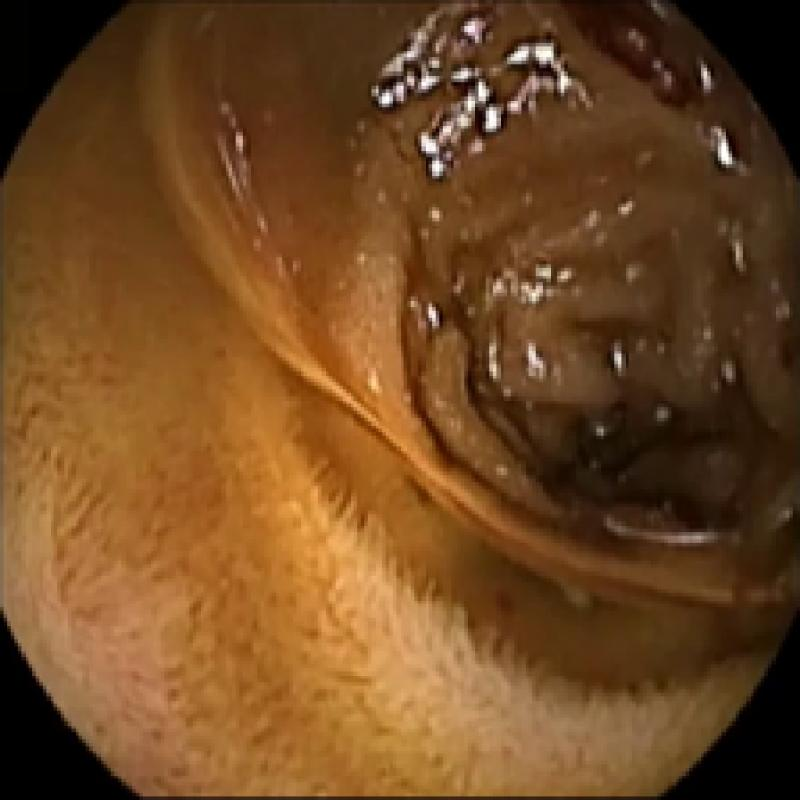bleeding: (550, 0, 704, 111)
